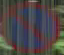No Stopping: (3, 0, 59, 51)
